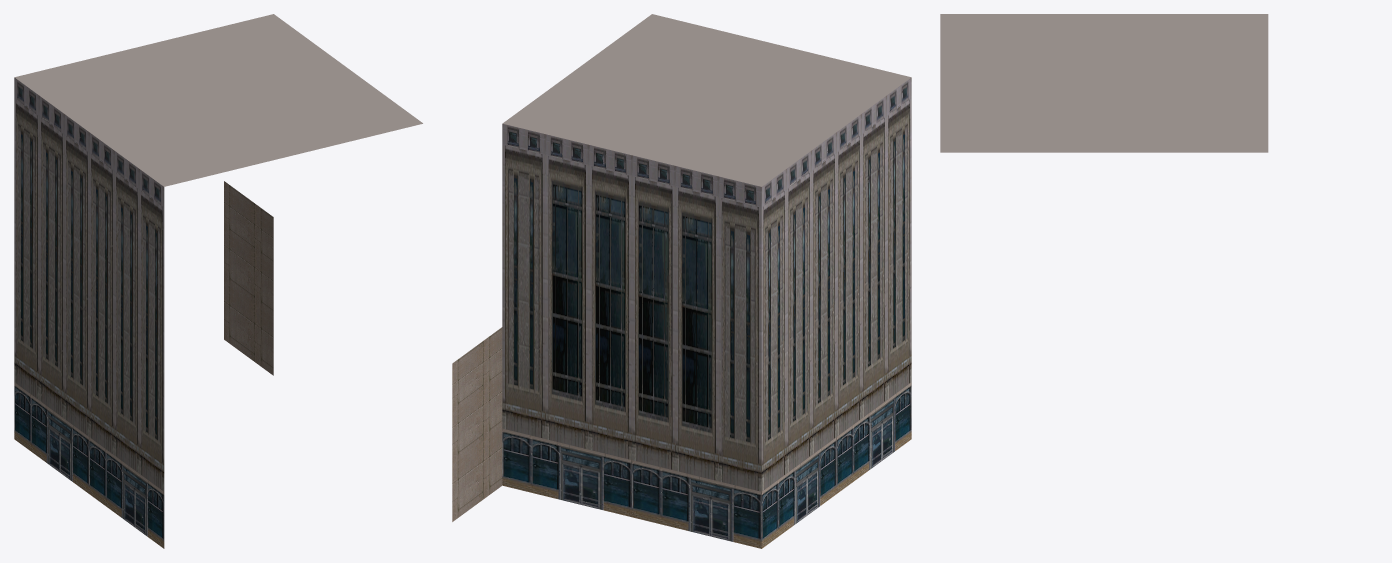
Rendered from M2Zone4_Building20.glb.
The picture shows the model from 3 angles, left to right: view 1: azimuth 30°, elevation 25°; view 2: azimuth 150°, elevation 25°; view 3: azimuth 270°, elevation 25°; orthographic projection. The views are drawn at different scales.
Parts seen in each view (by area): view 1: M2ZONE4_BUILDING20; view 2: M2ZONE4_BUILDING20; view 3: M2ZONE4_BUILDING20.
Boxes of the visible parts, x1,y1,x2,y2 form: M2ZONE4_BUILDING20: [14, 14, 422, 548]; M2ZONE4_BUILDING20: [452, 14, 911, 548]; M2ZONE4_BUILDING20: [940, 14, 1268, 152].
Size of the model in its own units: 24 by 32 by 32.
4 materials, 4 textured.
